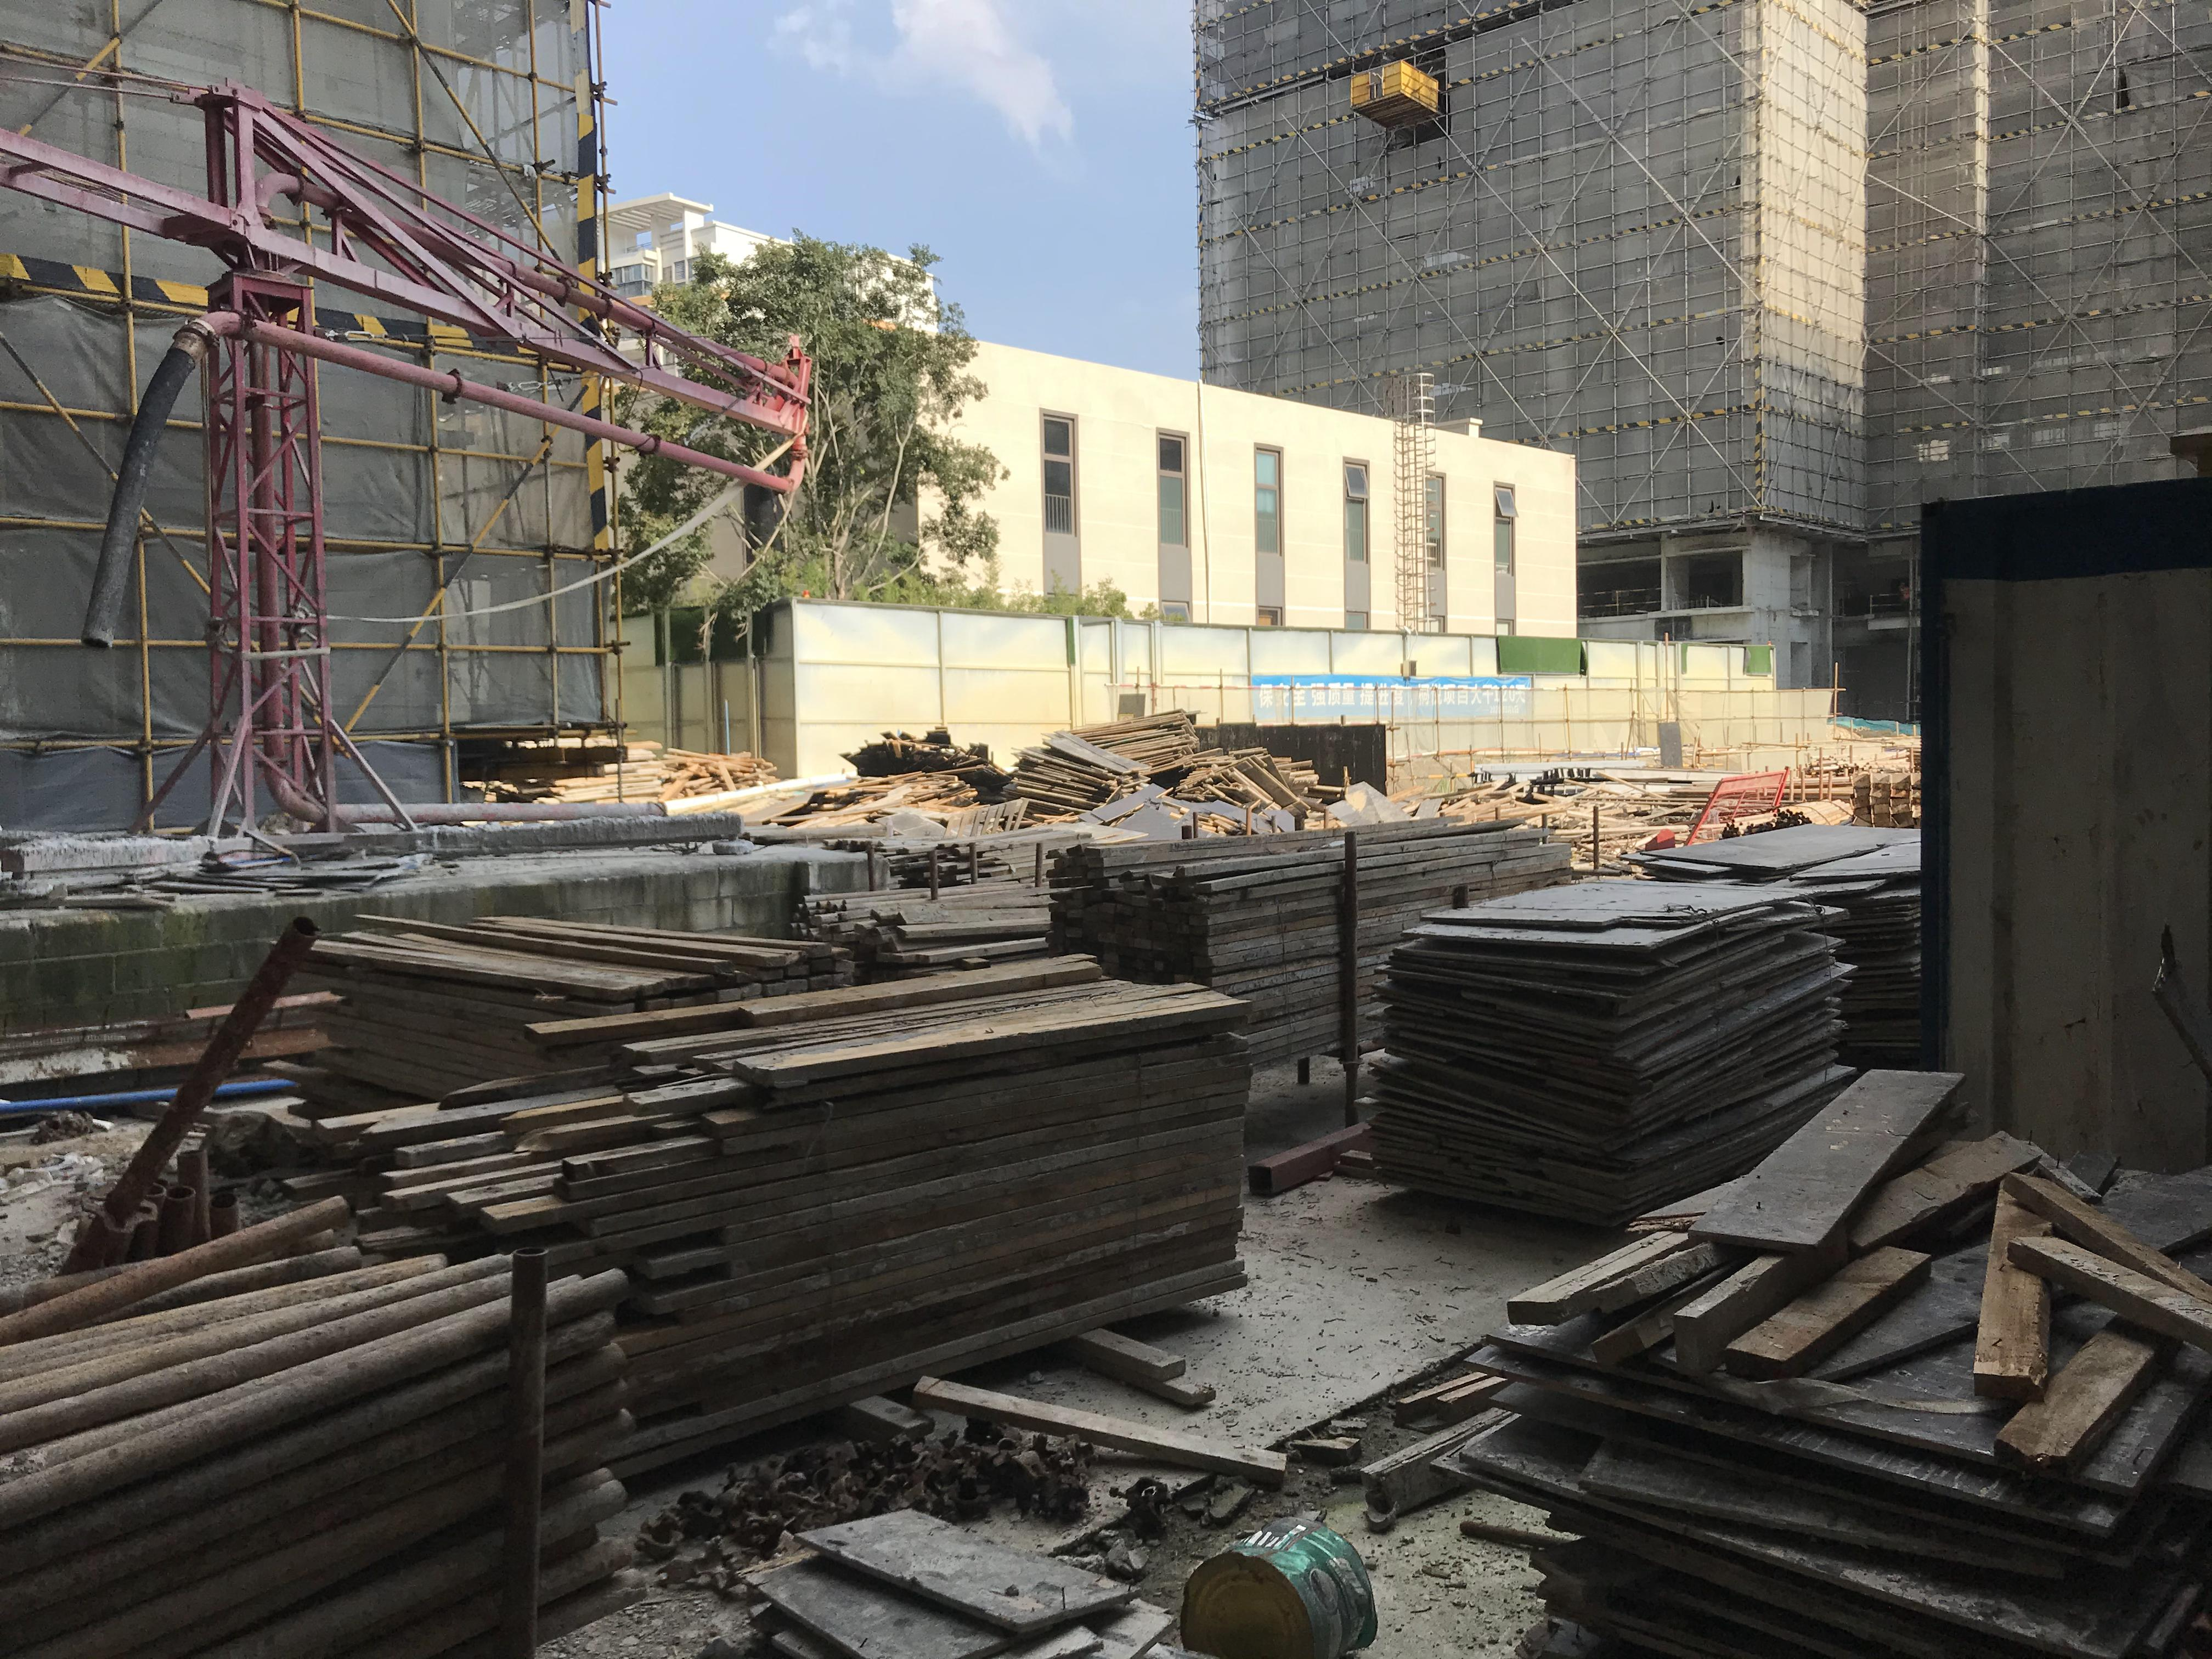board: (1500, 1115, 2212, 1657), (1367, 864, 1865, 1199), (995, 732, 1139, 817), (1076, 716, 1214, 782)
slogan: (1258, 676, 1526, 709)
wood: (404, 993, 1305, 1429), (1036, 807, 1590, 1046), (303, 884, 803, 1096)
